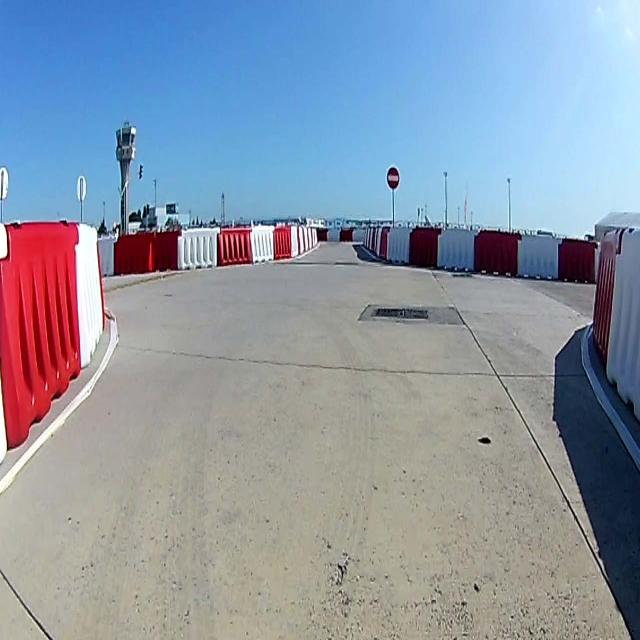girisyok: (385, 162, 402, 189)
